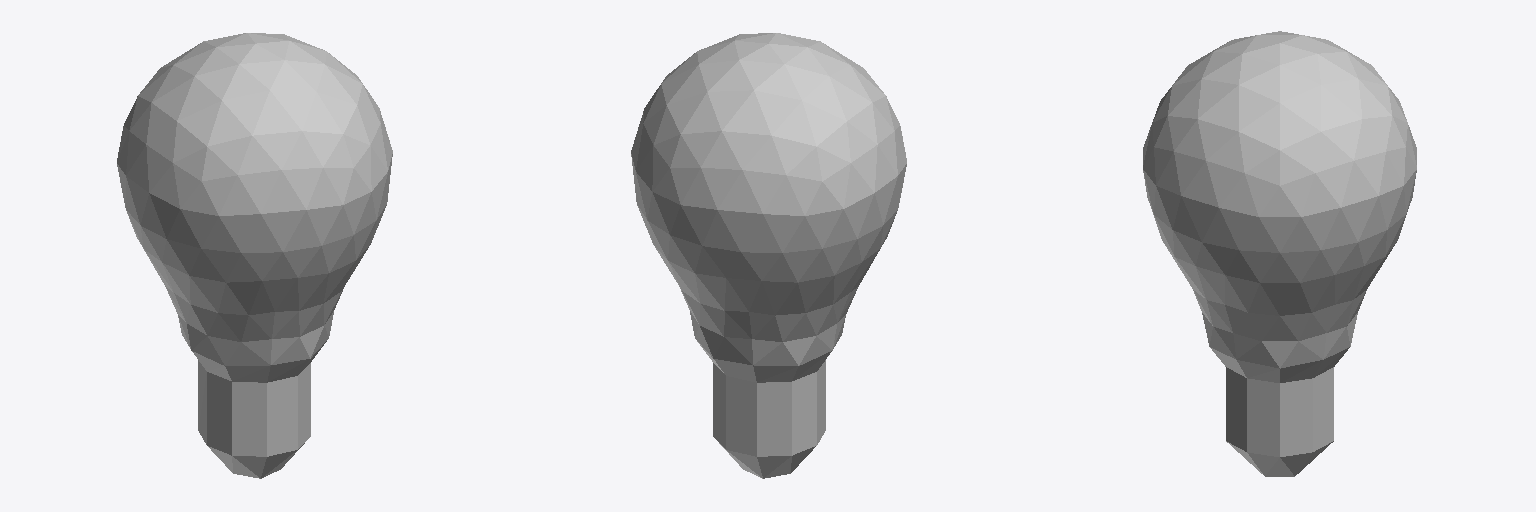
Rendered from lightbulb.obj.
3 views of the same model, side by side, from view 1: azimuth 30°, elevation 25°; view 2: azimuth 150°, elevation 25°; view 3: azimuth 270°, elevation 25° (orthographic).
Parts seen in each view (by area): view 1: Icosphere_Icosphere.001; view 2: Icosphere_Icosphere.001; view 3: Icosphere_Icosphere.001.
Boxes of the visible parts, x1=… form: Icosphere_Icosphere.001: x1=117, y1=33, x2=392, y2=478; Icosphere_Icosphere.001: x1=631, y1=33, x2=906, y2=478; Icosphere_Icosphere.001: x1=1143, y1=31, x2=1416, y2=476.
Bounding box in the file's own units: 0.0749 × 0.1286 × 0.0752.